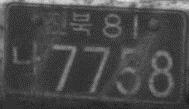1: (130, 10, 142, 41)
5: (114, 48, 143, 98)
7: (80, 44, 111, 91), (49, 43, 77, 94)
8: (147, 48, 175, 101), (100, 12, 123, 39)
나: (9, 40, 42, 84)
전북_O: (43, 9, 93, 35)
